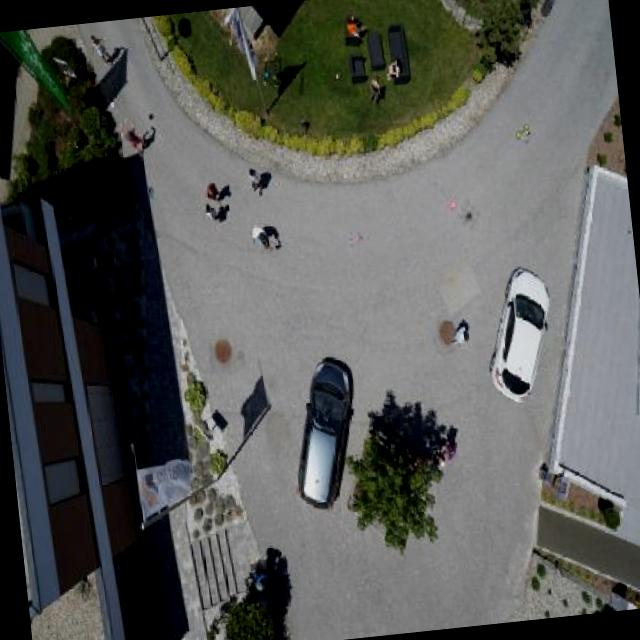Person: (109, 117, 150, 159), (82, 28, 116, 70), (244, 216, 276, 258), (442, 316, 473, 352), (197, 175, 227, 208), (240, 161, 264, 200), (196, 197, 226, 226), (362, 68, 382, 110), (339, 8, 362, 42), (380, 52, 402, 82)
